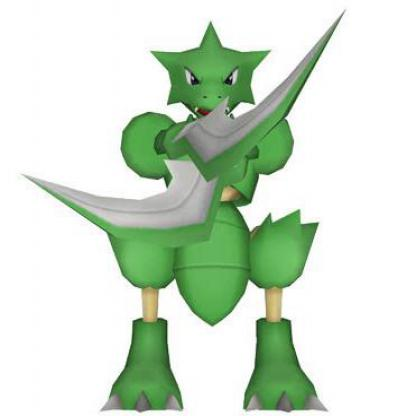Scyther: (4, 1, 416, 416)
